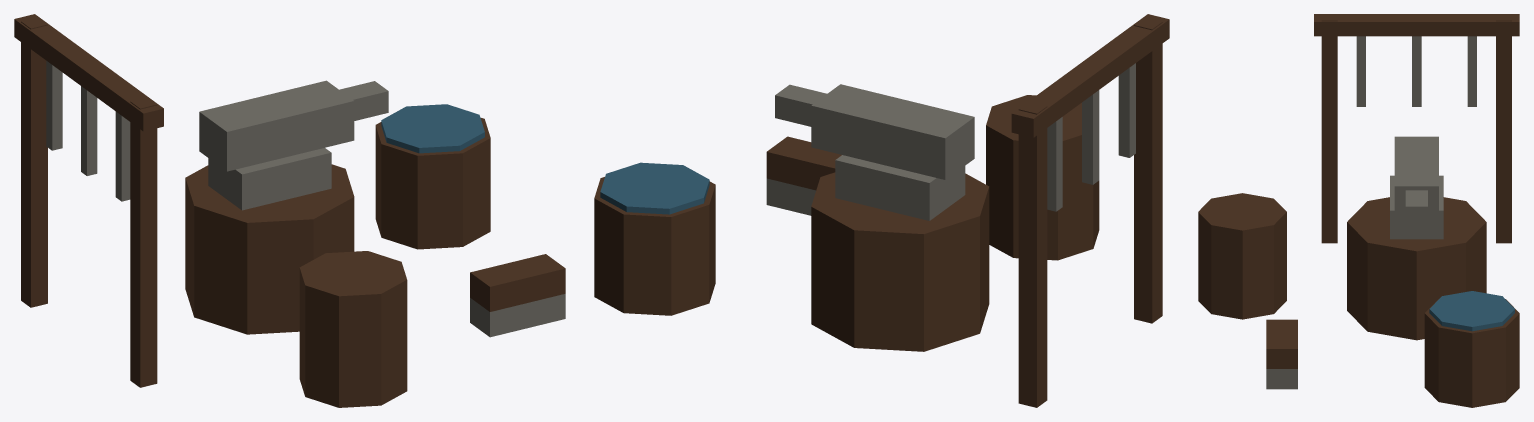
Rendered from prop_anvil_yard.glb.
3 renders of one model, left to right at view 1: azimuth 30°, elevation 25°; view 2: azimuth 150°, elevation 25°; view 3: azimuth 270°, elevation 25°, orthographic. The views are drawn at different scales.
Parts seen in each view (by area): view 1: prop_anvil_yard; view 2: prop_anvil_yard; view 3: prop_anvil_yard.
Part boxes in pixels (x1,y1,x2,y2): prop_anvil_yard: (14, 14, 565, 407); prop_anvil_yard: (594, 14, 1169, 407); prop_anvil_yard: (1198, 14, 1519, 407).
Bounding box in the file's own units: 2.56 × 1.55 × 2.03.
